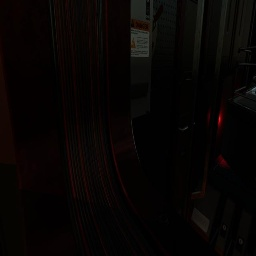SafetySwitchPanel ,: (131, 0, 163, 119)
